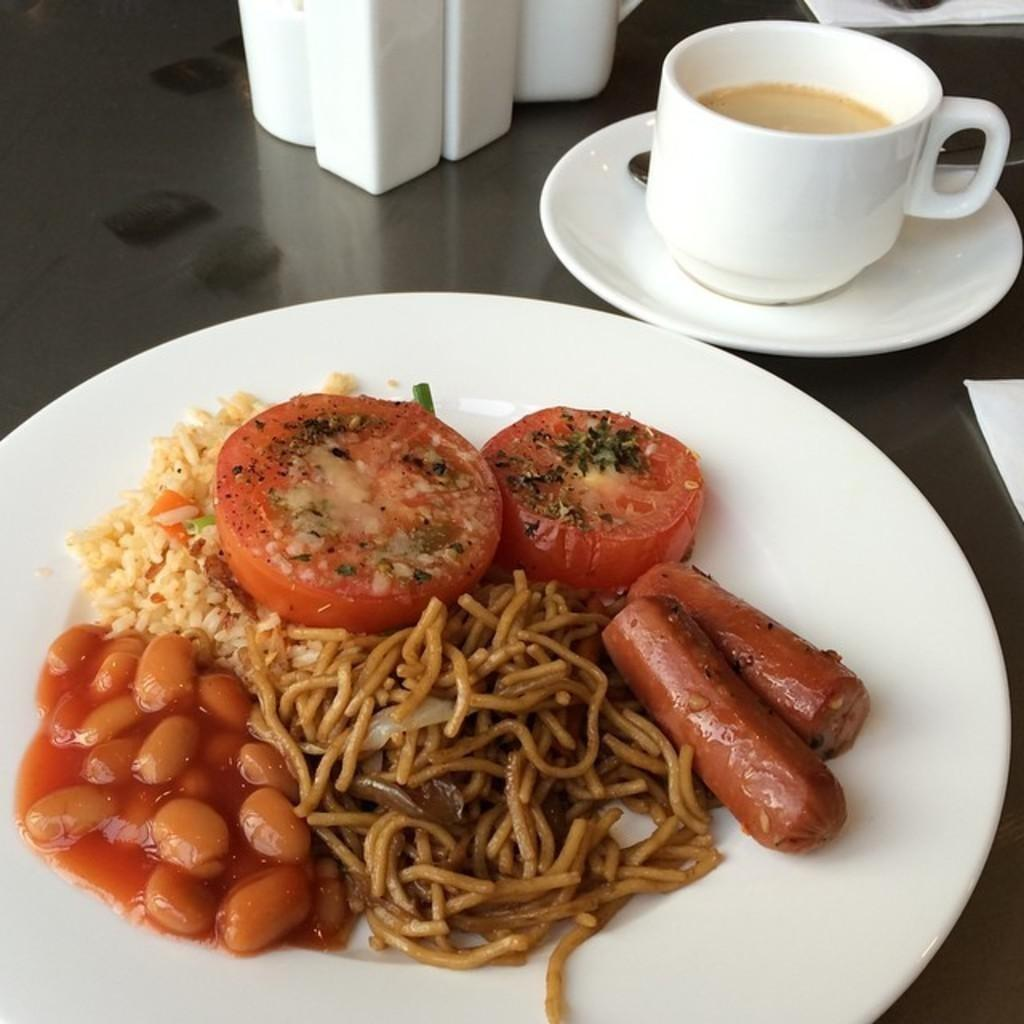cup-handle: (645, 18, 1012, 308)
